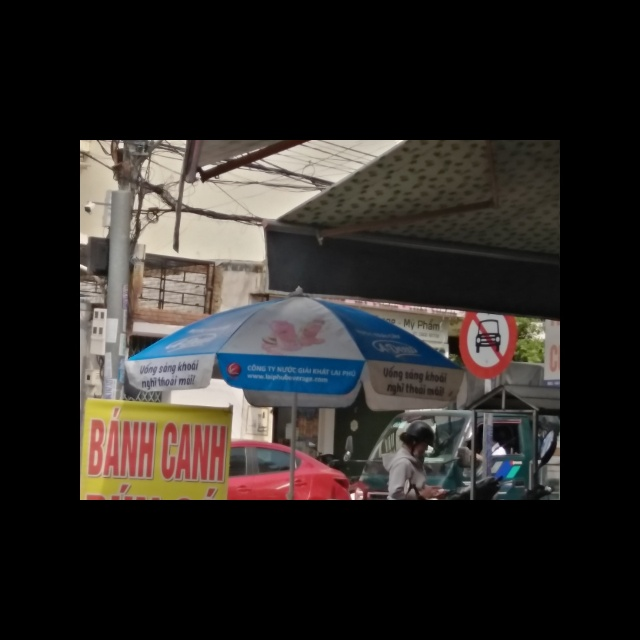Cấm xe ô tô: (456, 310, 519, 379)
